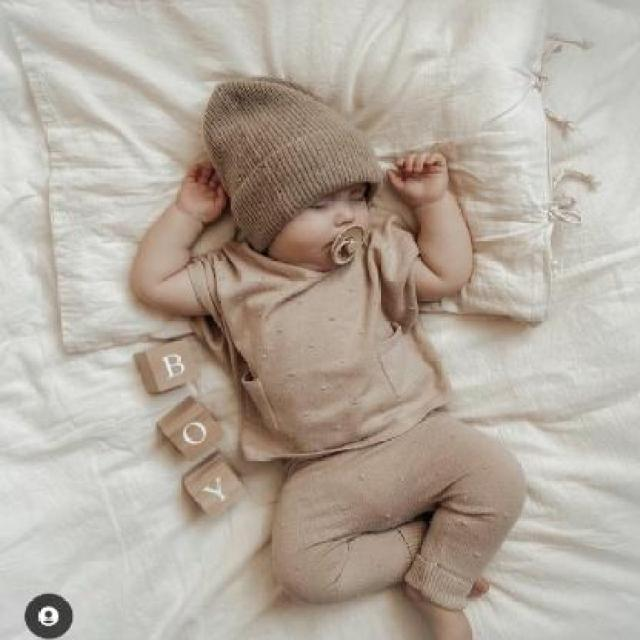non-dog: (130, 81, 525, 640)
